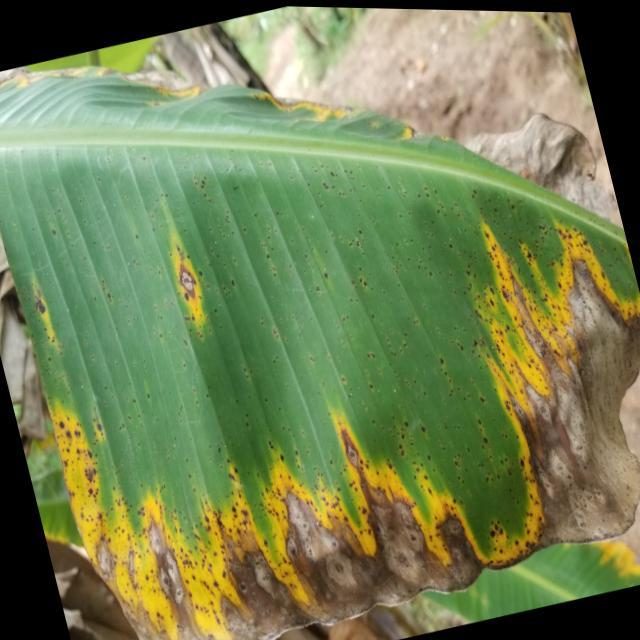Early_rust: (0, 36, 640, 640)
